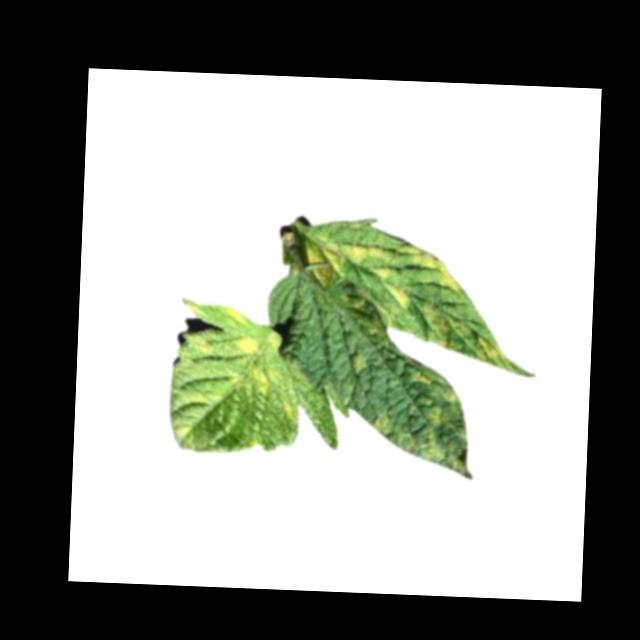Leaf_Mold: (363, 360, 471, 479), (302, 237, 386, 284), (225, 333, 281, 401), (412, 248, 463, 295), (421, 302, 452, 348), (472, 333, 505, 364), (181, 330, 213, 358), (383, 284, 410, 312), (276, 400, 300, 425), (343, 352, 367, 374)
